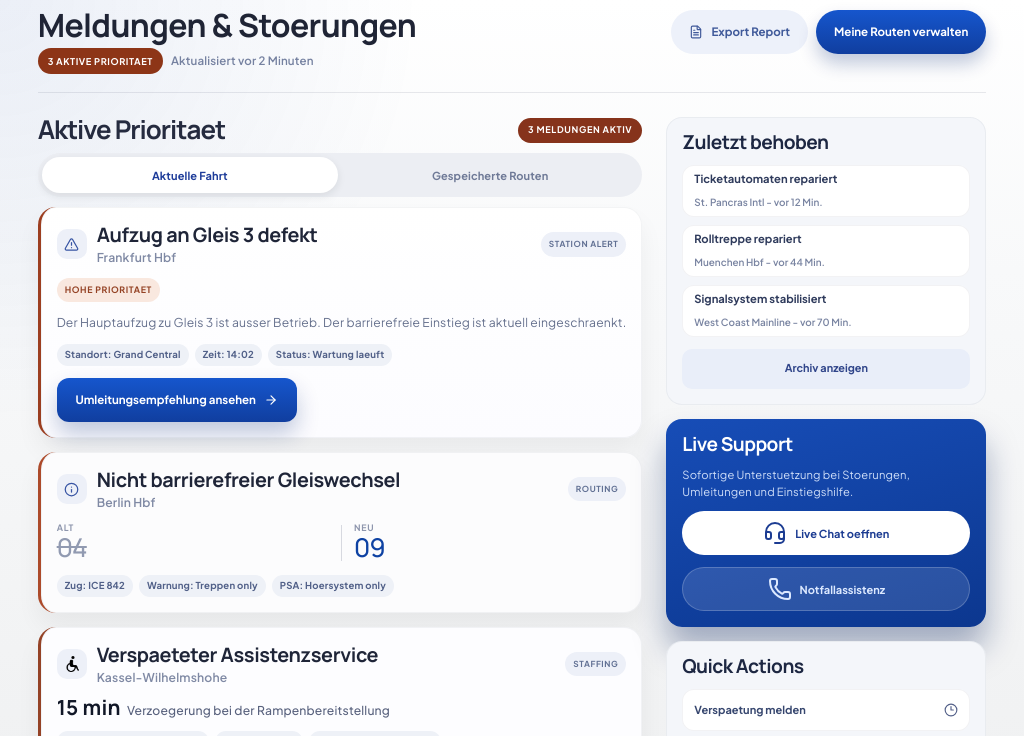
Test: Alerts › switches to saved routes state when saved routes tab is selected
Click the tab "Gespeicherte Routen" at (490, 175), box [342,157,638,193]
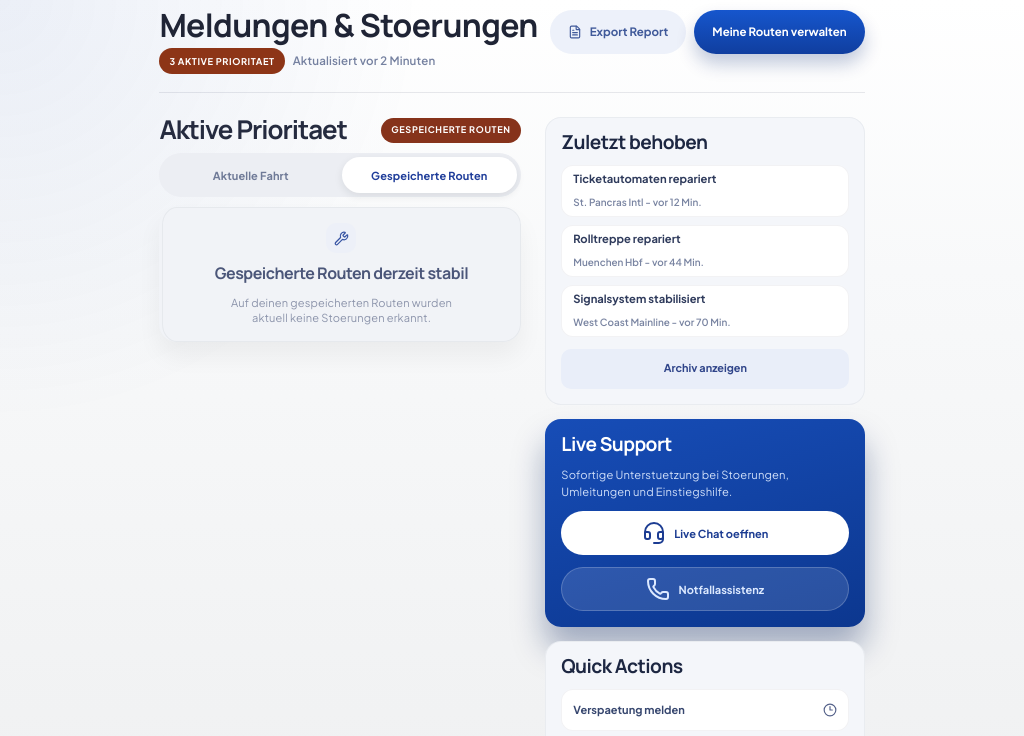
Check: the heading "Gespeicherte Routen derzeit stabil" is shown, box [215,265,468,283]
Check: the text "Auf deinen gespeicherten Routen wurden aktuell keine Stoerungen erkannt." is shown, box [220,295,463,326]
